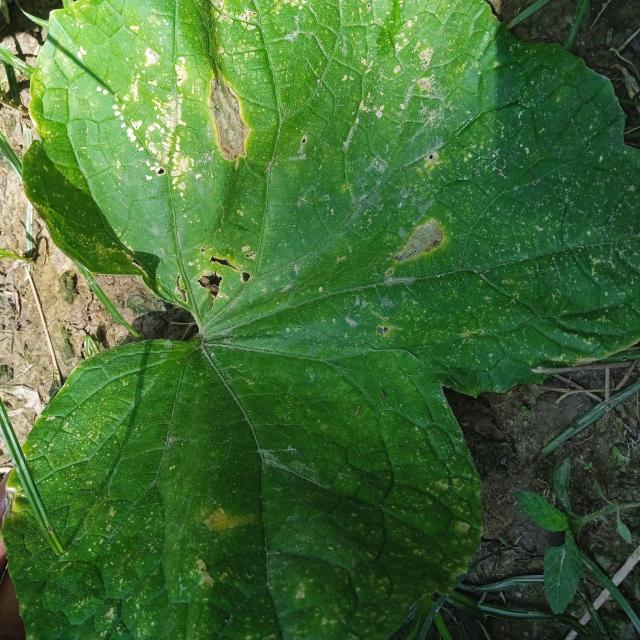cucumber_anthracnose: (34, 11, 625, 637)
